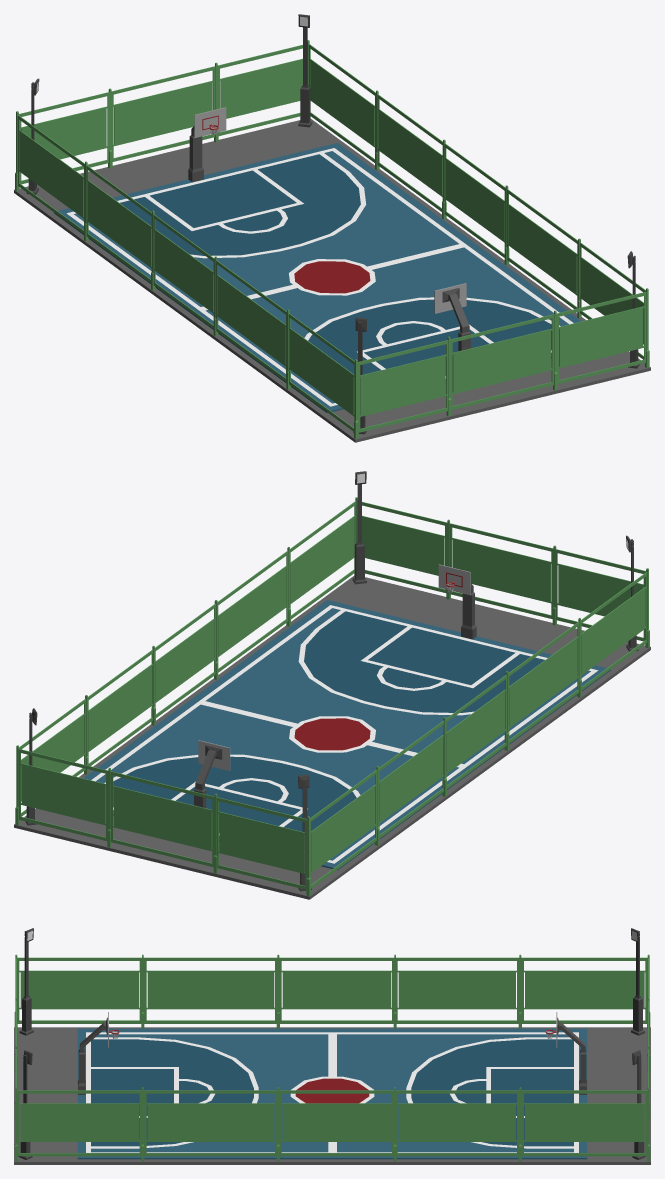
File: basketball-court.glb
3 renders of one model, top to bottom at view 1: azimuth 30°, elevation 25°; view 2: azimuth 150°, elevation 25°; view 3: azimuth 270°, elevation 25°, orthographic. The views are drawn at different scales.
Parts seen in each view (by area): view 1: basketballcourt_a; view 2: basketballcourt_a; view 3: basketballcourt_a.
Boxes of the visible parts, x1,y1,x2,y2 form: basketballcourt_a: [14, 14, 650, 442]; basketballcourt_a: [14, 471, 650, 899]; basketballcourt_a: [14, 928, 650, 1164].
Bounding box in the file's own units: 10 × 3.71 × 20.
1 material, 1 textured.
